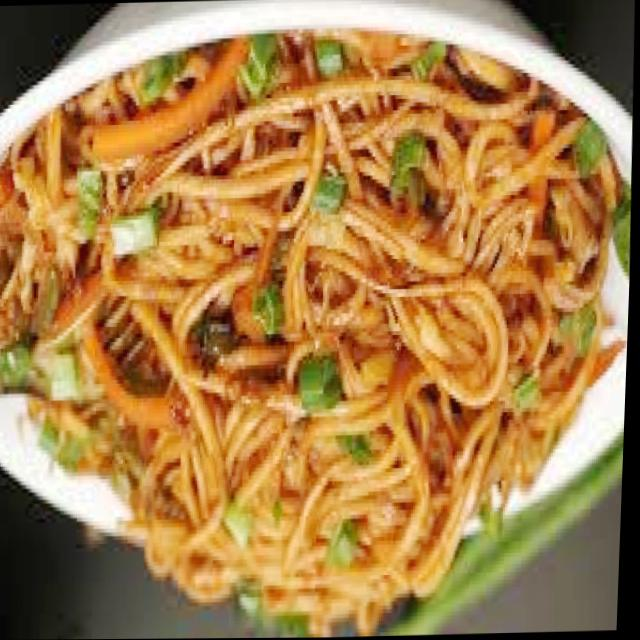Chow Mein: (0, 29, 639, 640)
